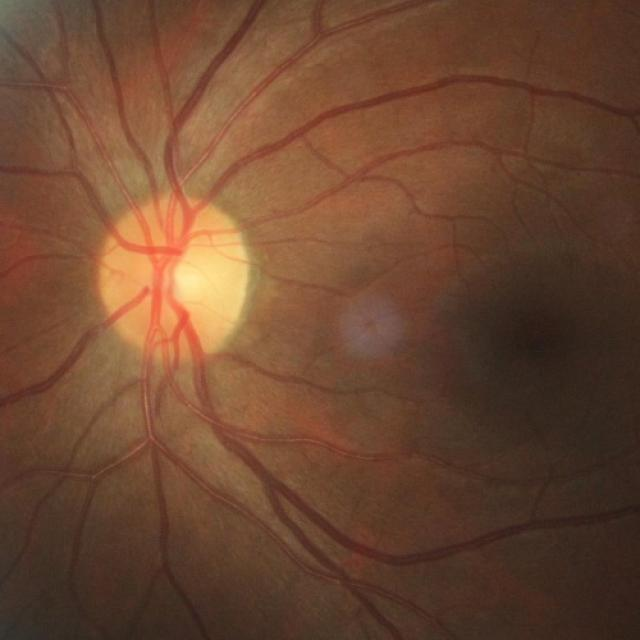OC: (168, 259, 208, 301)
OD: (101, 197, 252, 359)
